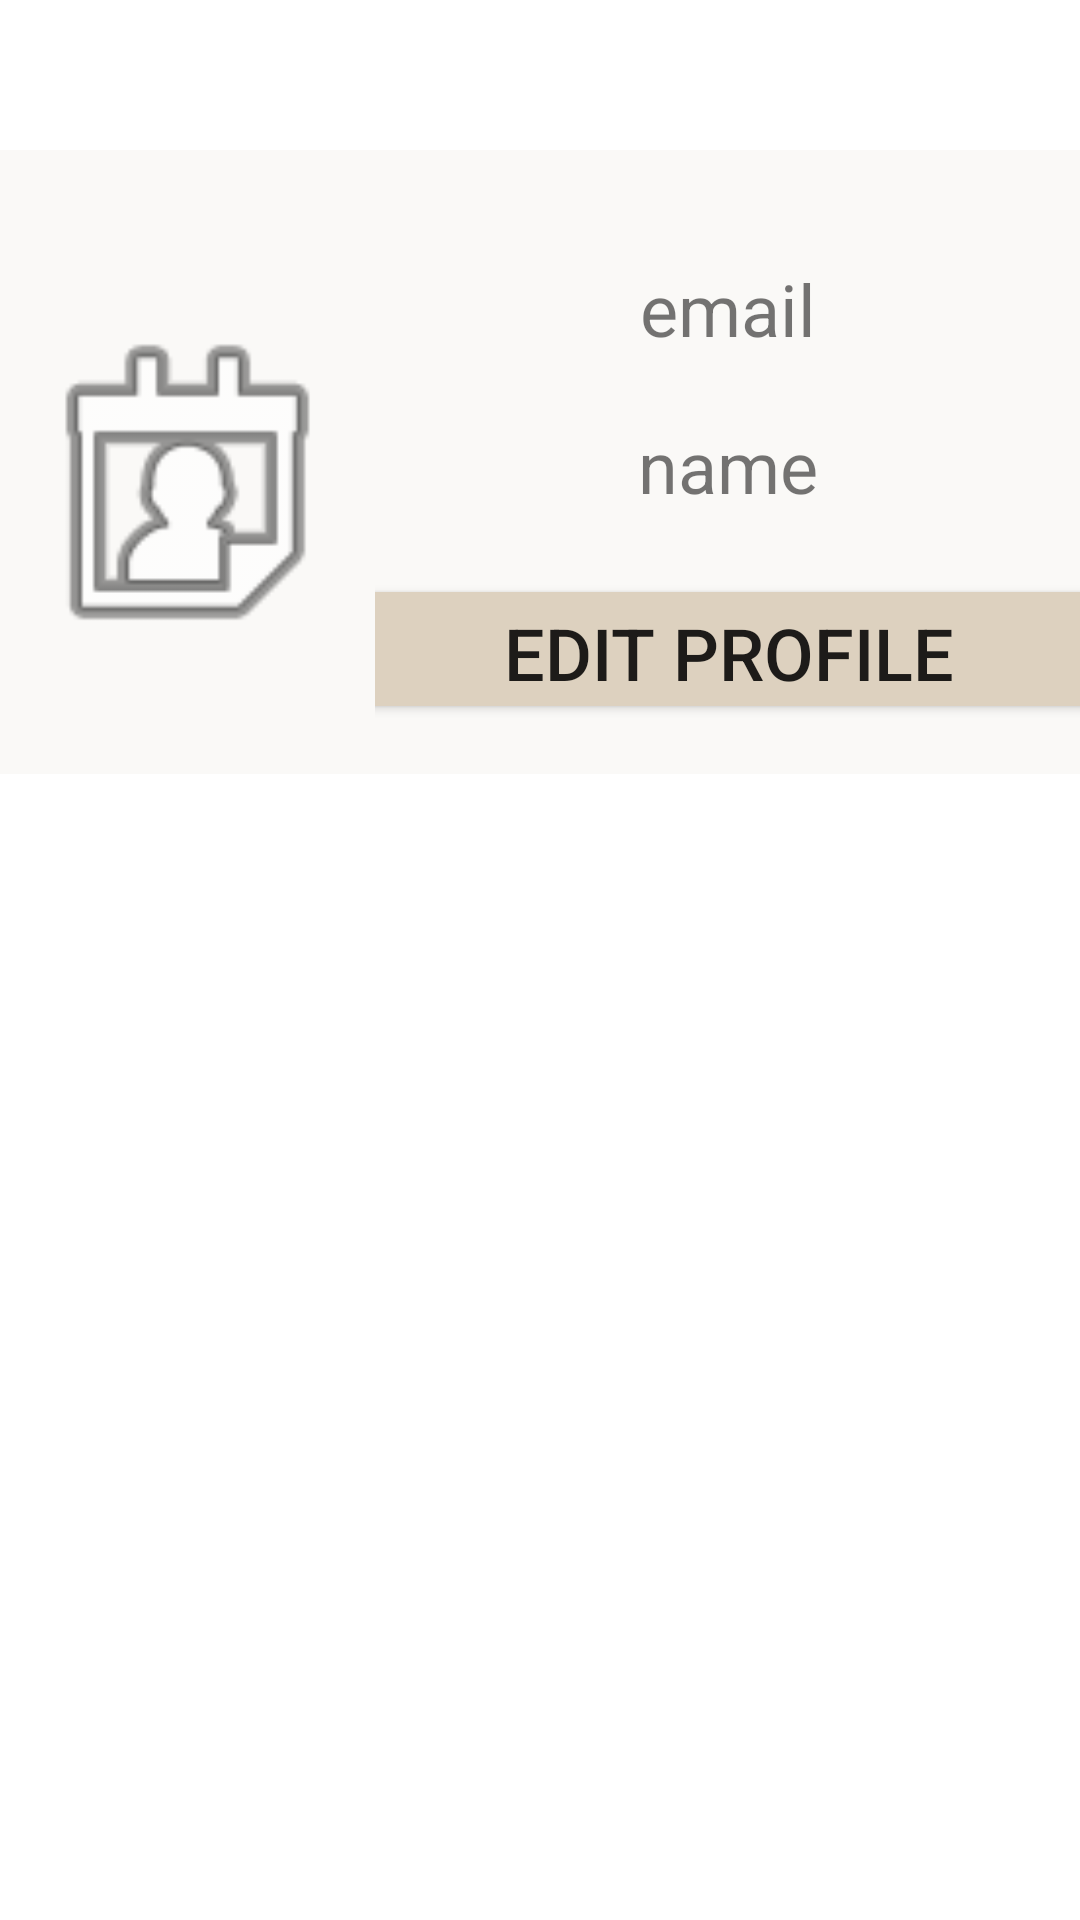

Named icons in this screenshot (1080 × 1920) and their bounding boxes, {"left": x1, "top": y1, "right": x2, "bottom": y2}:
calendar: {"left": 65, "top": 345, "right": 310, "bottom": 620}
